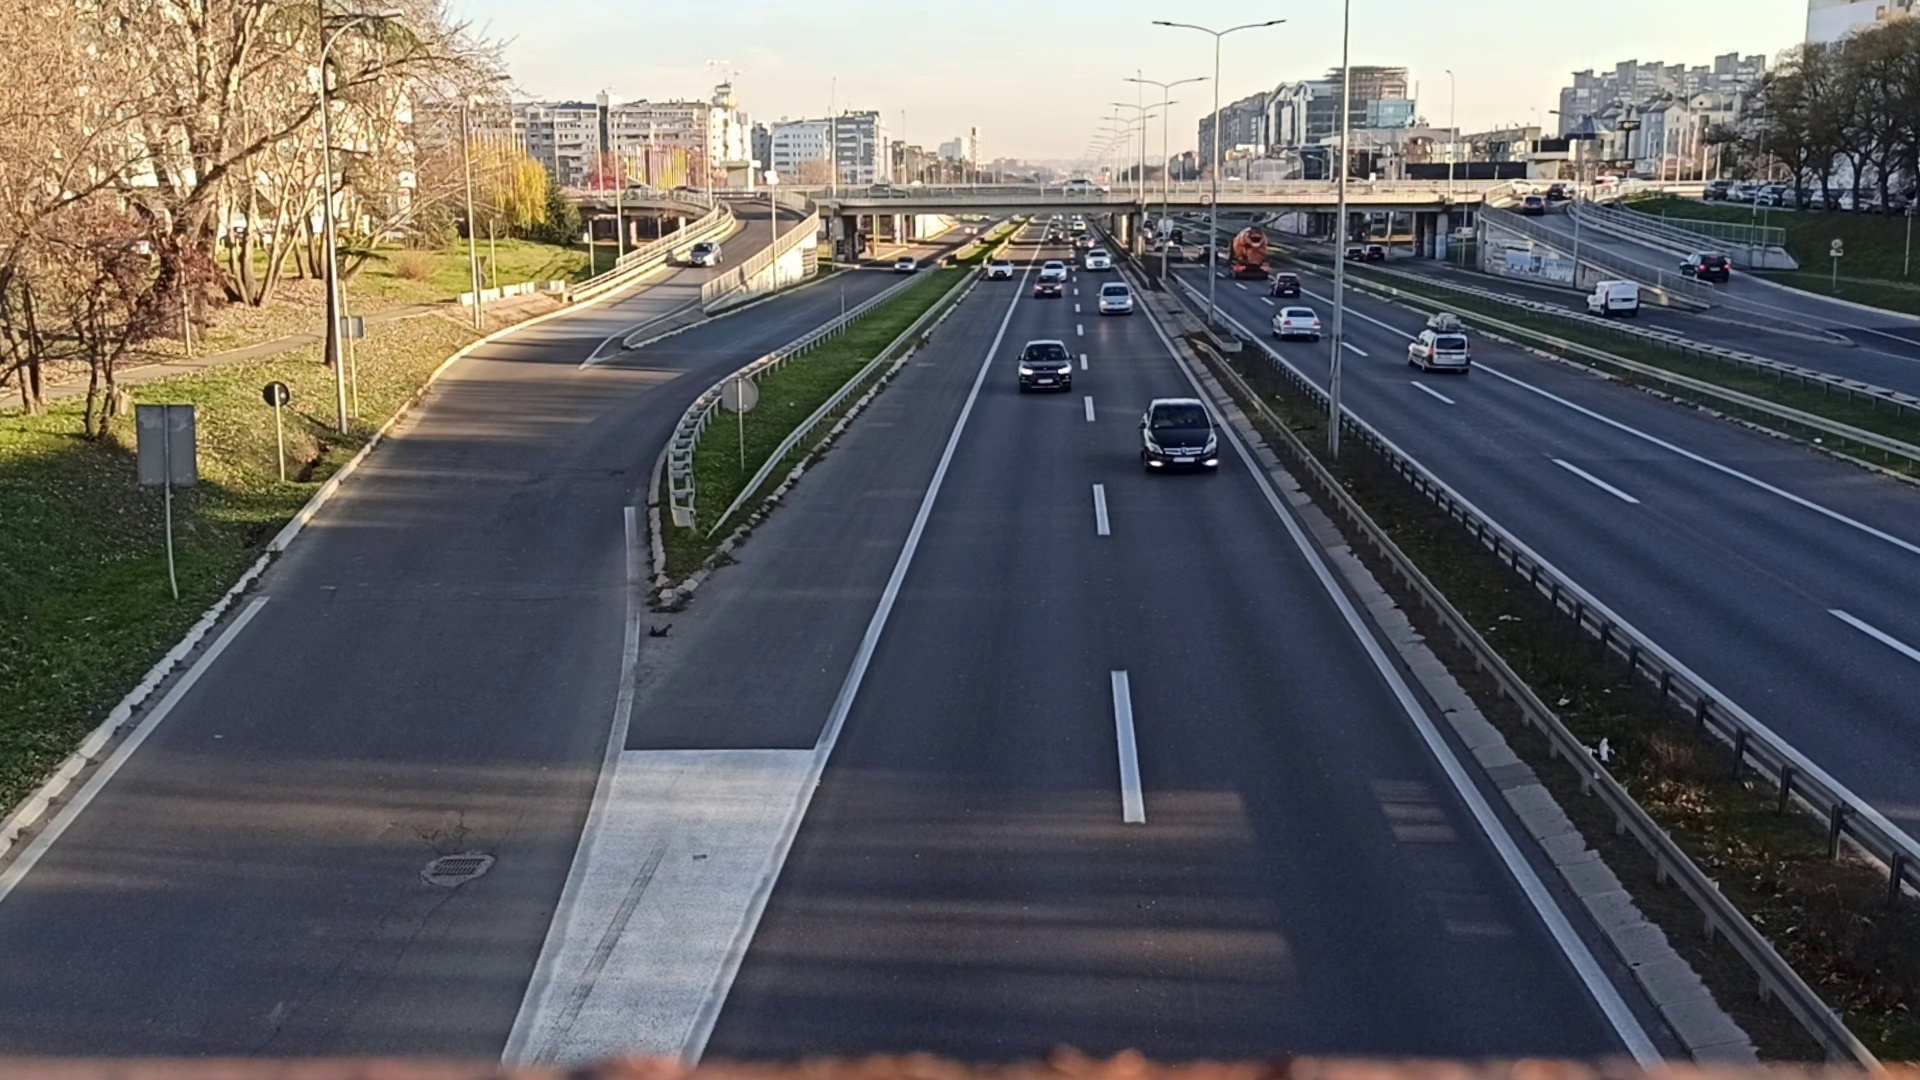car: (1139, 397, 1221, 473), (1021, 340, 1073, 390), (1273, 305, 1325, 342)
van: (1404, 314, 1476, 378), (1585, 278, 1640, 320)
